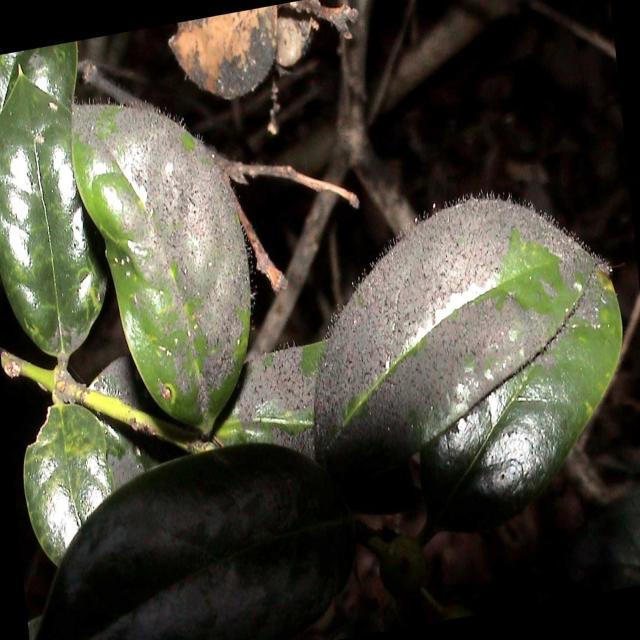Sooty Mold: (312, 190, 622, 508), (36, 440, 356, 638), (69, 97, 255, 436)
